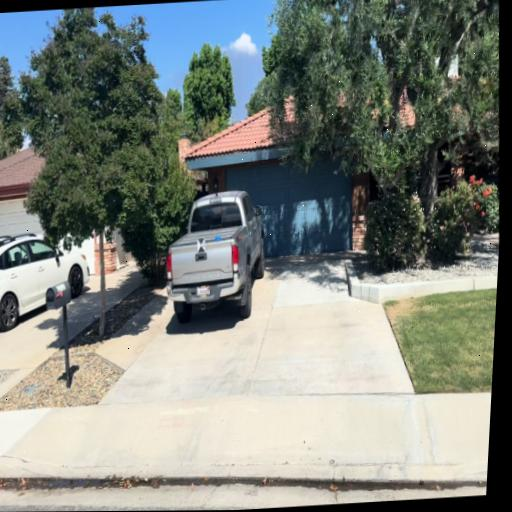target1: (196, 237, 206, 252)
